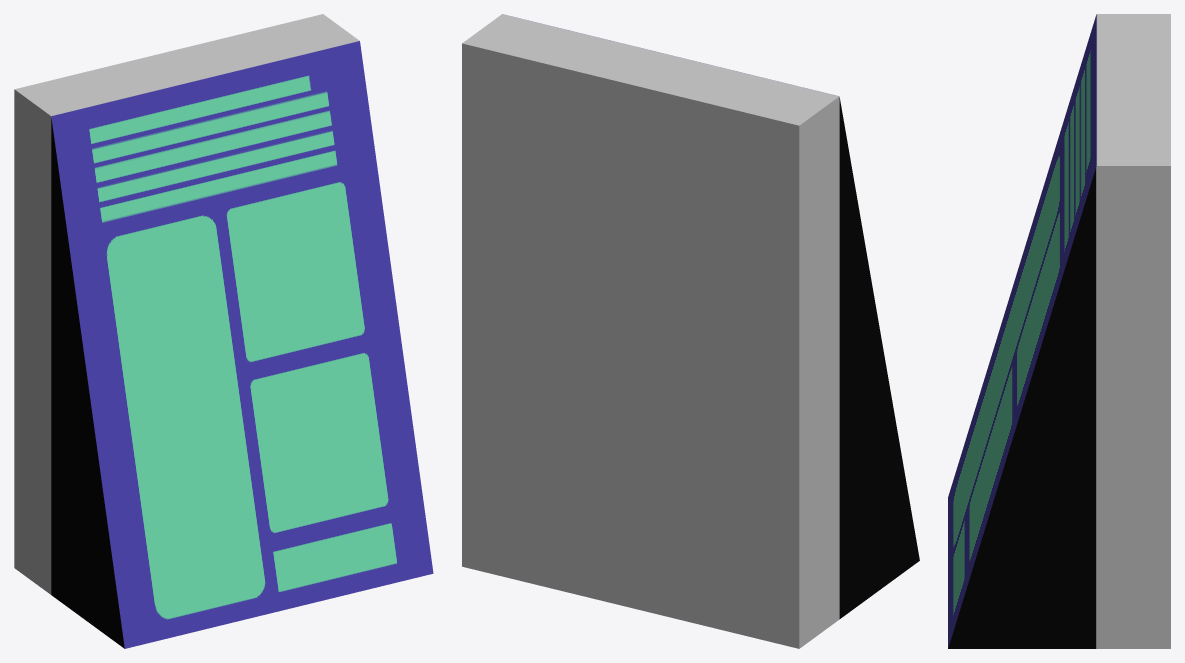
The model's file is signsign2.fbx.
3 renders of one model, left to right at view 1: azimuth 30°, elevation 25°; view 2: azimuth 150°, elevation 25°; view 3: azimuth 270°, elevation 25°, orthographic. The views are drawn at different scales.
Parts seen in each view (by area): view 1: sign2; view 2: sign2; view 3: sign2.
Part boxes in pixels (box(x1,y1,x2,y2)): sign2: box(14, 14, 433, 648); sign2: box(462, 14, 919, 648); sign2: box(948, 14, 1170, 648).
Bounding box in the file's own units: 0.3798 × 0.2353 × 0.563.
Materials: 1 (1 with a texture image).
